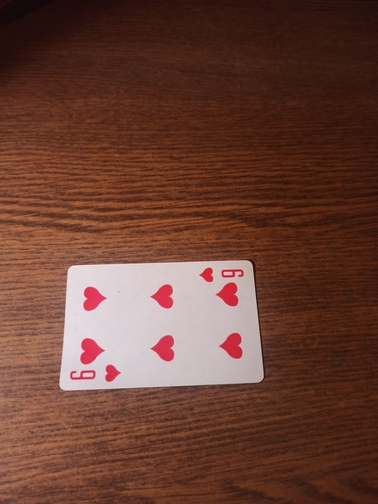sixhearts: (57, 260, 265, 392)
